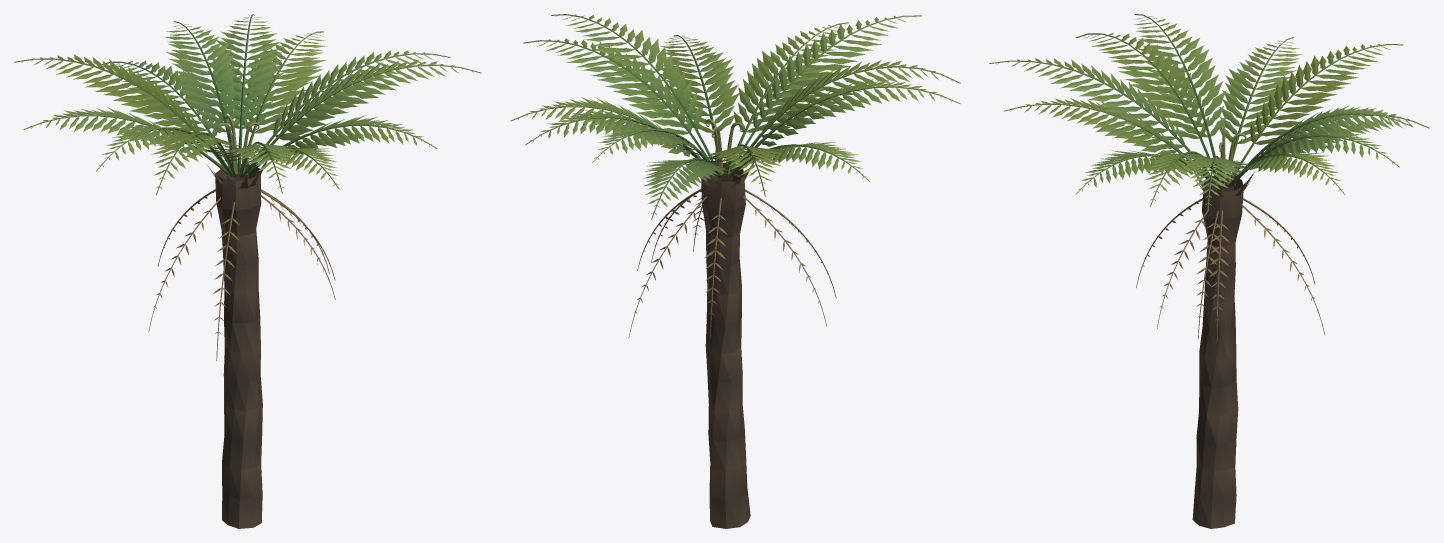
Rendered from tree_fern_a.glb.
3 views of the same model, side by side, from view 1: azimuth 30°, elevation 25°; view 2: azimuth 150°, elevation 25°; view 3: azimuth 270°, elevation 25° (orthographic). The views are drawn at different scales.
Visible parts, largest first — view 1: tree_fern_a; view 2: tree_fern_a; view 3: tree_fern_a.
Part boxes in pixels (x1,y1,x2,y2): tree_fern_a: (14,14,481,528); tree_fern_a: (510,14,960,528); tree_fern_a: (989,14,1429,528).
Size of the model in its own units: 4.35 by 4.63 by 4.29.
